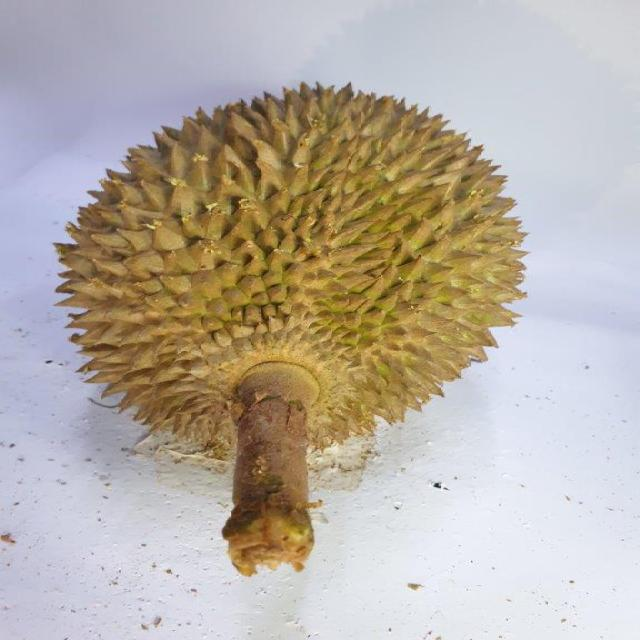mature: (57, 74, 544, 475)
